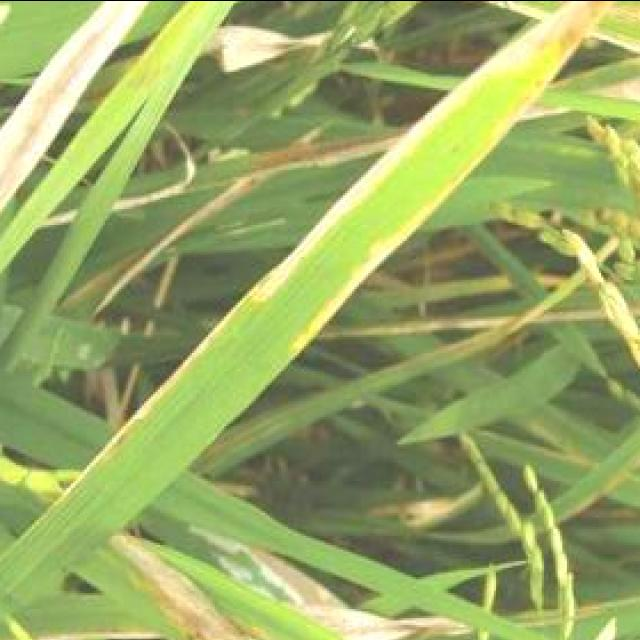Bacterial_Leaf_Blight: (407, 43, 519, 183), (32, 7, 121, 110)
